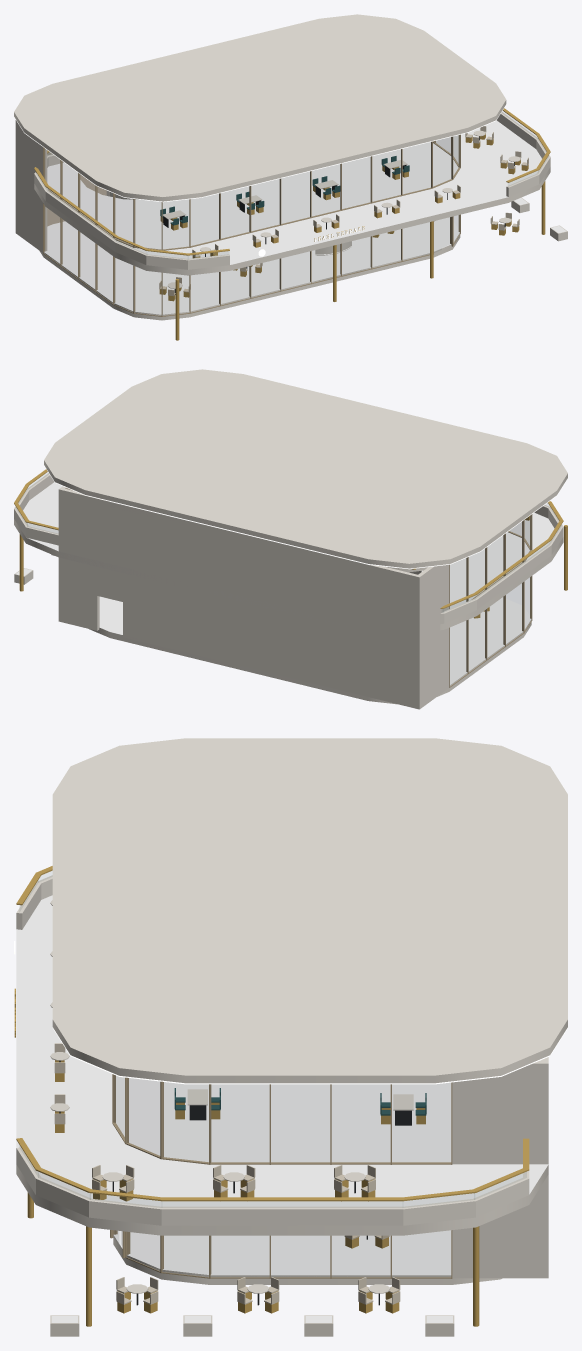
File: pearl_terrace_lod1.glb
3 renders of one model, top to bottom at view 1: azimuth 30°, elevation 25°; view 2: azimuth 150°, elevation 25°; view 3: azimuth 270°, elevation 25°, orthographic. The views are drawn at different scales.
Parts seen in each view (by area): view 1: P11_LOD1_FACADE_DETAILS_Balcony, P11_LOD1_BUILDING_EXTERIOR_BalconySlab, P11_LOD1_BUILDING_INTERIOR_GroundSlab, P11_LOD1_FURNITURE_Dining, P11_LOD1_BUILDING_EXTERIOR_Shell, P11_LOD1_GLASS_SYSTEM_L1Frame, P11_LOD1_GLASS_SYSTEM_GFFrame, P11_LOD1_FURNITURE_SideTerrace; view 2: P11_LOD1_FACADE_DETAILS_Balcony, P11_LOD1_BUILDING_EXTERIOR_Shell, P11_LOD1_BUILDING_EXTERIOR_BalconySlab, P11_LOD1_BUILDING_INTERIOR_GroundSlab, P11_LOD1_GLASS_SYSTEM_GFFrame, P11_LOD1_GLASS_SYSTEM_L1Frame, P11_LOD1_BUILDING_EXTERIOR_Roof; view 3: P11_LOD1_FACADE_DETAILS_Balcony, P11_LOD1_BUILDING_EXTERIOR_BalconySlab, P11_LOD1_BUILDING_INTERIOR_GroundSlab, P11_LOD1_BUILDING_EXTERIOR_Shell, P11_LOD1_FURNITURE_Dining, P11_LOD1_FURNITURE_SideTerrace, P11_LOD1_GLASS_SYSTEM_L1Frame, P11_LOD1_GLASS_SYSTEM_GFFrame.
Part boxes in pixels (bbox=[...]): P11_LOD1_FACADE_DETAILS_Balcony: bbox=[14, 14, 550, 340]; P11_LOD1_BUILDING_EXTERIOR_BalconySlab: bbox=[34, 120, 550, 275]; P11_LOD1_BUILDING_INTERIOR_GroundSlab: bbox=[39, 217, 460, 320]; P11_LOD1_FURNITURE_Dining: bbox=[159, 126, 528, 301]; P11_LOD1_BUILDING_EXTERIOR_Shell: bbox=[15, 120, 106, 252]; P11_LOD1_GLASS_SYSTEM_L1Frame: bbox=[43, 134, 460, 250]; P11_LOD1_GLASS_SYSTEM_GFFrame: bbox=[43, 203, 460, 316]; P11_LOD1_FURNITURE_SideTerrace: bbox=[490, 197, 567, 241]; P11_LOD1_FACADE_DETAILS_Balcony: bbox=[14, 369, 567, 623]; P11_LOD1_BUILDING_EXTERIOR_Shell: bbox=[58, 486, 449, 709]; P11_LOD1_BUILDING_EXTERIOR_BalconySlab: bbox=[14, 482, 563, 630]; P11_LOD1_BUILDING_INTERIOR_GroundSlab: bbox=[89, 596, 531, 704]; P11_LOD1_GLASS_SYSTEM_GFFrame: bbox=[449, 576, 532, 687]; P11_LOD1_GLASS_SYSTEM_L1Frame: bbox=[449, 514, 532, 608]; P11_LOD1_BUILDING_EXTERIOR_Roof: bbox=[110, 501, 427, 572]; P11_LOD1_FACADE_DETAILS_Balcony: bbox=[16, 738, 567, 1326]; P11_LOD1_BUILDING_EXTERIOR_BalconySlab: bbox=[16, 895, 548, 1235]; P11_LOD1_BUILDING_INTERIOR_GroundSlab: bbox=[113, 1230, 502, 1284]; P11_LOD1_BUILDING_EXTERIOR_Shell: bbox=[452, 1057, 548, 1278]; P11_LOD1_FURNITURE_Dining: bbox=[50, 900, 426, 1248]; P11_LOD1_FURNITURE_SideTerrace: bbox=[50, 1277, 454, 1336]; P11_LOD1_GLASS_SYSTEM_L1Frame: bbox=[112, 1074, 452, 1164]; P11_LOD1_GLASS_SYSTEM_GFFrame: bbox=[110, 1230, 452, 1278].
Bounding box in the file's own units: 36 × 10.95 × 22.9.
